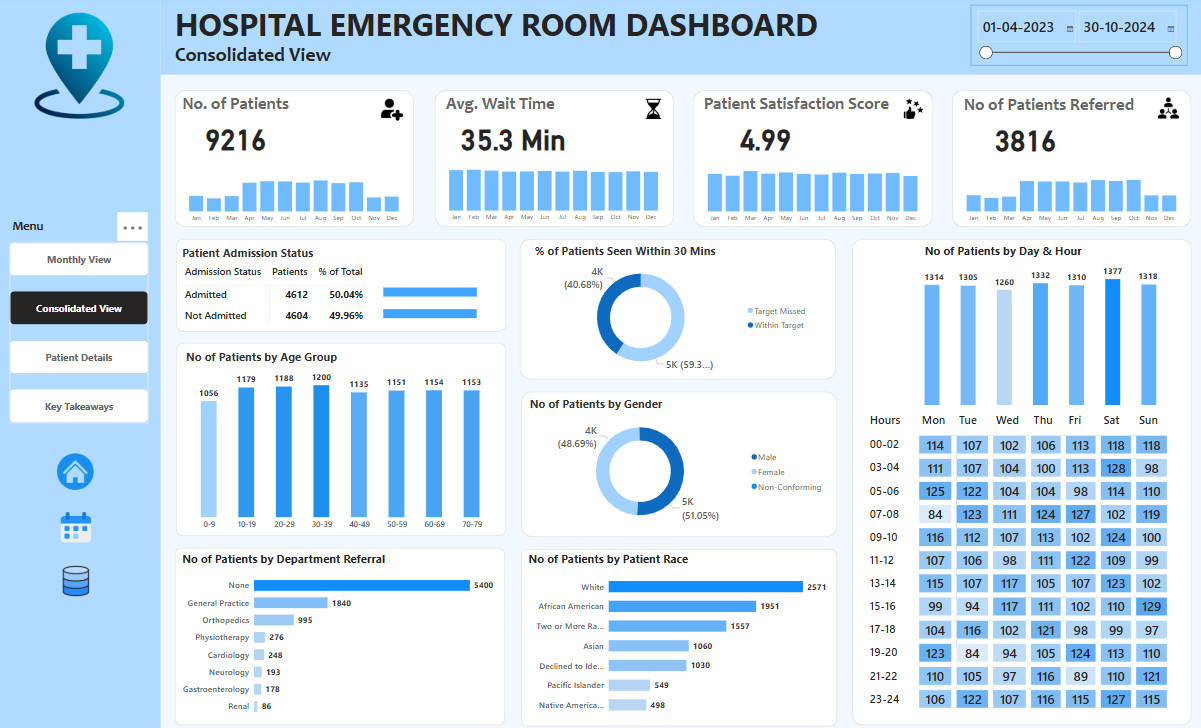

Layout of this report page (visuals, bound fields, positions):
{"tool":"powerbi","page":{"name":"Consolidated View","canvas":[2300,1400],"ordinal":1},"visuals":[{"type":"shape","box":[338.5,171.3,455.5,261.2],"z":0},{"type":"shape","box":[1324.7,171.3,455.5,261.2],"z":1000},{"type":"shape","box":[0,0,311.3,1399.9],"z":2000},{"type":"shape","box":[831.6,171.3,455.5,261.2],"z":3000},{"type":"card","fields":{"Values":["Hospital ER_Hospital ER.No of Patients"]},"box":[374,225.7,160.9,66.9],"z":4000},{"type":"card","fields":{"Values":["Hospital ER_Hospital ER.Avg Wait Time"]},"box":[869.2,225.7,223.6,66.9],"z":5000},{"type":"card","fields":{"Values":["Avg(Hospital ER_Hospital ER.Patient Satisfaction Score)"]},"box":[1381.4,225.6,160.9,66.9],"z":6000},{"type":"shape","box":[1817.8,171.3,455.5,261.2],"z":7000},{"type":"card","fields":{"Values":["Hospital ER_Hospital ER.Measure"]},"box":[1876.7,227.6,160.9,66.9],"z":8000},{"type":"shape","box":[311.3,0,1989.1,142.1],"z":9000},{"type":"textbox","box":[339.2,171.3,227.8,56.5],"z":10000},{"type":"textbox","box":[841.3,171.3,231.1,56.5],"z":11000},{"type":"textbox","box":[1331.2,172,377.5,55.8],"z":12000},{"type":"textbox","box":[1828.2,173.4,344.8,56.4],"z":13000},{"type":"columnChart","fields":{"Y":["Hospital ER_Hospital ER.No of Patients"],"Category":["Calendar Table.Month"]},"box":[347.7,302.7,436.1,130.4],"z":14000},{"type":"columnChart","fields":{"Category":["Calendar Table.Month"],"Y":["Avg(Hospital ER_Hospital ER.Patient Waittime)"]},"box":[842.8,302.7,434.6,128.8],"z":15000},{"type":"columnChart","fields":{"Category":["Calendar Table.Month"],"Y":["Avg(Hospital ER_Hospital ER.Patient Satisfaction Score)"]},"box":[1333.3,302.7,436.1,130.4],"z":16000},{"type":"columnChart","fields":{"Category":["Calendar Table.Month"],"Y":["Hospital ER_Hospital ER.Referral Rate"]},"box":[1826.8,302.7,436.1,130.4],"z":17000},{"type":"textbox","box":[332.2,0,1294.5,90],"z":18000},{"type":"image","box":[46.9,17.9,218.9,212.2],"z":19000},{"type":"image","box":[1222.3,183.9,52.2,48.1],"z":20000},{"type":"image","box":[724.8,183.1,52.8,51.2],"z":21000},{"type":"image","box":[2198,181.8,62.7,50],"z":22000},{"type":"image","box":[1713.3,179.7,58.5,52.2],"z":23000},{"type":"shape","box":[338.9,455,629.1,177.3],"z":24000},{"type":"shape","box":[994.7,455,602.5,268.3],"z":25000},{"type":"shape","box":[1626.9,455,646.4,925.6],"z":26000},{"type":"shape","box":[996.2,743.7,602.5,277.7],"z":27000},{"type":"donutChart","title":"% of Patients Seen Within 30 Mins","fields":{"Y":["Hospital ER_Hospital ER.No of Patients"],"Category":["Hospital ER_Hospital ER.Waittime Status"]},"box":[1017.7,461.3,535,256.8],"z":28000},{"type":"donutChart","title":"No of Patients by Gender","fields":{"Y":["Hospital ER_Hospital ER.No of Patients"],"Category":["Hospital ER_Hospital ER.Full Gender"]},"box":[1008.2,753.7,575.4,256.8],"z":29000},{"type":"shape","box":[338.9,652.7,629.1,368.7],"z":30000},{"type":"pivotTable","title":"Patient Admission Status","fields":{"Rows":["Hospital ER_Hospital ER.Admission Status"],"Values":["Hospital ER_Hospital ER.No of Patients1","Hospital ER_Hospital ER.No of Patients"]},"box":[347.9,465.5,610,158.3],"z":31000},{"type":"barChart","fields":{"Category":["Hospital ER_Hospital ER.Admission Status"],"Y":["Hospital ER_Hospital ER.No of Patients"]},"box":[729.5,514.6,241.6,120.8],"z":32000},{"type":"clusteredColumnChart","fields":{"Category":["Hospital ER_Hospital ER.Age Group"],"Y":["Hospital ER_Hospital ER.No of Patients"]},"box":[354.6,662.7,599.3,354.6],"z":33000},{"type":"shape","box":[337.3,1041.7,629.1,338.9],"z":34000},{"type":"clusteredBarChart","fields":{"Category":["Hospital ER_Hospital ER.Department Referral"],"Y":["Hospital ER_Hospital ER.No of Patients"]},"box":[348.3,1049.6,602.5,324.8],"z":35000},{"type":"shape","box":[996.5,1043,602.2,338.4],"z":36000},{"type":"clusteredBarChart","fields":{"Y":["Hospital ER_Hospital ER.No of Patients"],"Category":["Hospital ER_Hospital ER.Patient Race"]},"box":[1005.8,1049.2,578.9,324.4],"z":37000},{"type":"pivotTable","fields":{"Columns":["Calendar Table.Day Name"],"Rows":["Hospital ER_Hospital ER.Waittime Interval"],"Values":["Hospital ER_Hospital ER.No of Patients"]},"box":[1649.3,776.3,599.2,583.1],"z":38000},{"type":"clusteredColumnChart","title":"No of Patients by Day & Hour","fields":{"Category":["Calendar Table.Day Name"],"Y":["Hospital ER_Hospital ER.No of Patients"]},"box":[1758.7,461.3,453.4,315.3],"z":39000},{"type":"textbox","box":[333.7,76.1,411.3,59],"z":40000},{"type":"pageNavigator","box":[24.2,462.3,264.1,343.1],"z":41000},{"type":"textbox","box":[24.2,409.1,99.9,48.3],"z":42000},{"type":"image","box":[110.1,854.1,79.5,87.7],"z":46000},{"type":"image","box":[116.2,966.2,67.3,75.4],"z":47000},{"type":"image","box":[116.2,1068.1,67.3,75.4],"z":48000},{"type":"slicer","fields":{"Values":["Calendar Table.Date"]},"box":[1851.2,8.4,411.6,114.9],"z":50000}]}

Visuals, with their boxes in screenshot pixels (x1, y1, x2, y2), scaled from the page's 2300x1400 canvas onto the 1201x728 screenshot:
shape: Rect(177, 89, 415, 225)
shape: Rect(692, 89, 930, 225)
shape: Rect(0, 0, 163, 727)
shape: Rect(434, 89, 672, 225)
card - Hospital ER_Hospital ER.No of Patients: Rect(195, 117, 279, 152)
card - Hospital ER_Hospital ER.Avg Wait Time: Rect(454, 117, 571, 152)
card - Avg(Hospital ER_Hospital ER.Patient Satisfaction Score): Rect(721, 117, 805, 152)
shape: Rect(949, 89, 1187, 225)
card - Hospital ER_Hospital ER.Measure: Rect(980, 118, 1064, 153)
shape: Rect(163, 0, 1200, 74)
textbox: Rect(177, 89, 296, 118)
textbox: Rect(439, 89, 560, 118)
textbox: Rect(695, 89, 892, 118)
textbox: Rect(955, 90, 1135, 119)
columnChart - Hospital ER_Hospital ER.No of Patients x Calendar Table.Month: Rect(182, 157, 409, 225)
columnChart - Calendar Table.Month x Avg(Hospital ER_Hospital ER.Patient Waittime): Rect(440, 157, 667, 224)
columnChart - Calendar Table.Month x Avg(Hospital ER_Hospital ER.Patient Satisfaction Score): Rect(696, 157, 924, 225)
columnChart - Calendar Table.Month x Hospital ER_Hospital ER.Referral Rate: Rect(954, 157, 1182, 225)
textbox: Rect(173, 0, 849, 47)
image: Rect(24, 9, 139, 120)
image: Rect(638, 96, 666, 121)
image: Rect(378, 95, 406, 122)
image: Rect(1148, 95, 1180, 121)
image: Rect(895, 93, 925, 121)
shape: Rect(177, 237, 505, 329)
shape: Rect(519, 237, 834, 376)
shape: Rect(850, 237, 1187, 718)
shape: Rect(520, 387, 835, 531)
"% of Patients Seen Within 30 Mins" donutChart: Rect(531, 240, 811, 373)
"No of Patients by Gender" donutChart: Rect(526, 392, 827, 525)
shape: Rect(177, 339, 505, 531)
"Patient Admission Status" pivotTable: Rect(182, 242, 500, 324)
barChart - Hospital ER_Hospital ER.Admission Status x Hospital ER_Hospital ER.No of Patients: Rect(381, 268, 507, 330)
clusteredColumnChart - Hospital ER_Hospital ER.Age Group x Hospital ER_Hospital ER.No of Patients: Rect(185, 345, 498, 529)
shape: Rect(176, 542, 505, 718)
clusteredBarChart - Hospital ER_Hospital ER.Department Referral x Hospital ER_Hospital ER.No of Patients: Rect(182, 546, 496, 715)
shape: Rect(520, 542, 835, 718)
clusteredBarChart - Hospital ER_Hospital ER.No of Patients x Hospital ER_Hospital ER.Patient Race: Rect(525, 546, 827, 714)
pivotTable - Calendar Table.Day Name x Hospital ER_Hospital ER.Waittime Interval: Rect(861, 404, 1174, 707)
"No of Patients by Day & Hour" clusteredColumnChart: Rect(918, 240, 1155, 404)
textbox: Rect(174, 40, 389, 70)
pageNavigator: Rect(13, 240, 151, 419)
textbox: Rect(13, 213, 65, 238)
image: Rect(57, 444, 99, 490)
image: Rect(61, 502, 96, 542)
image: Rect(61, 555, 96, 595)
slicer - Calendar Table.Date: Rect(967, 4, 1182, 64)
